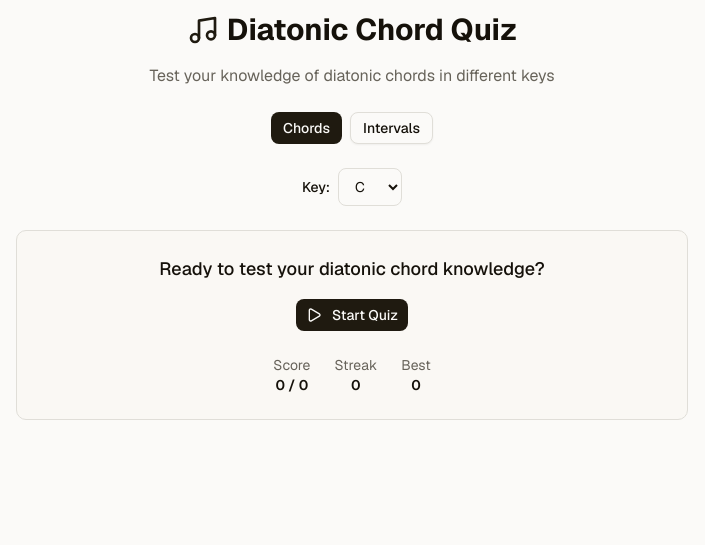
it: DiatonicQuiz › starting quiz shows a question about a degree
Click the button with test id "start-btn" at (352, 315), box left=296, top=299, right=408, bottom=331
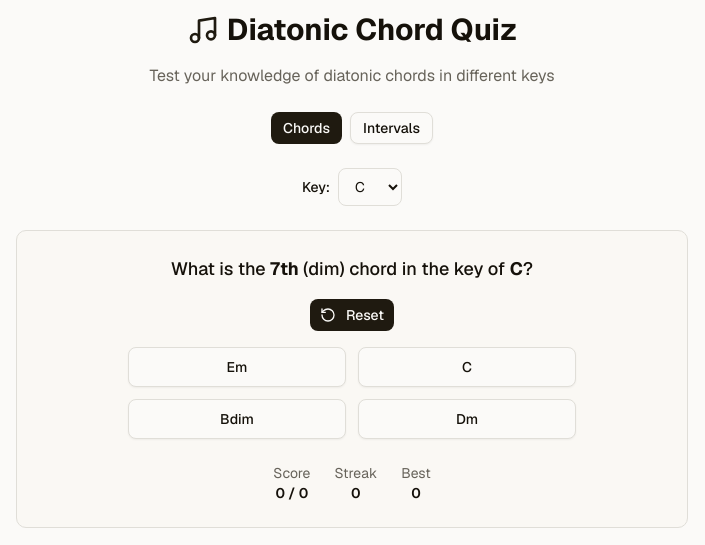
Result: the element with test id "quiz-prompt" reads "What is the 7th (dim) chord in the key of C?" at left=171, top=257, right=533, bottom=280
